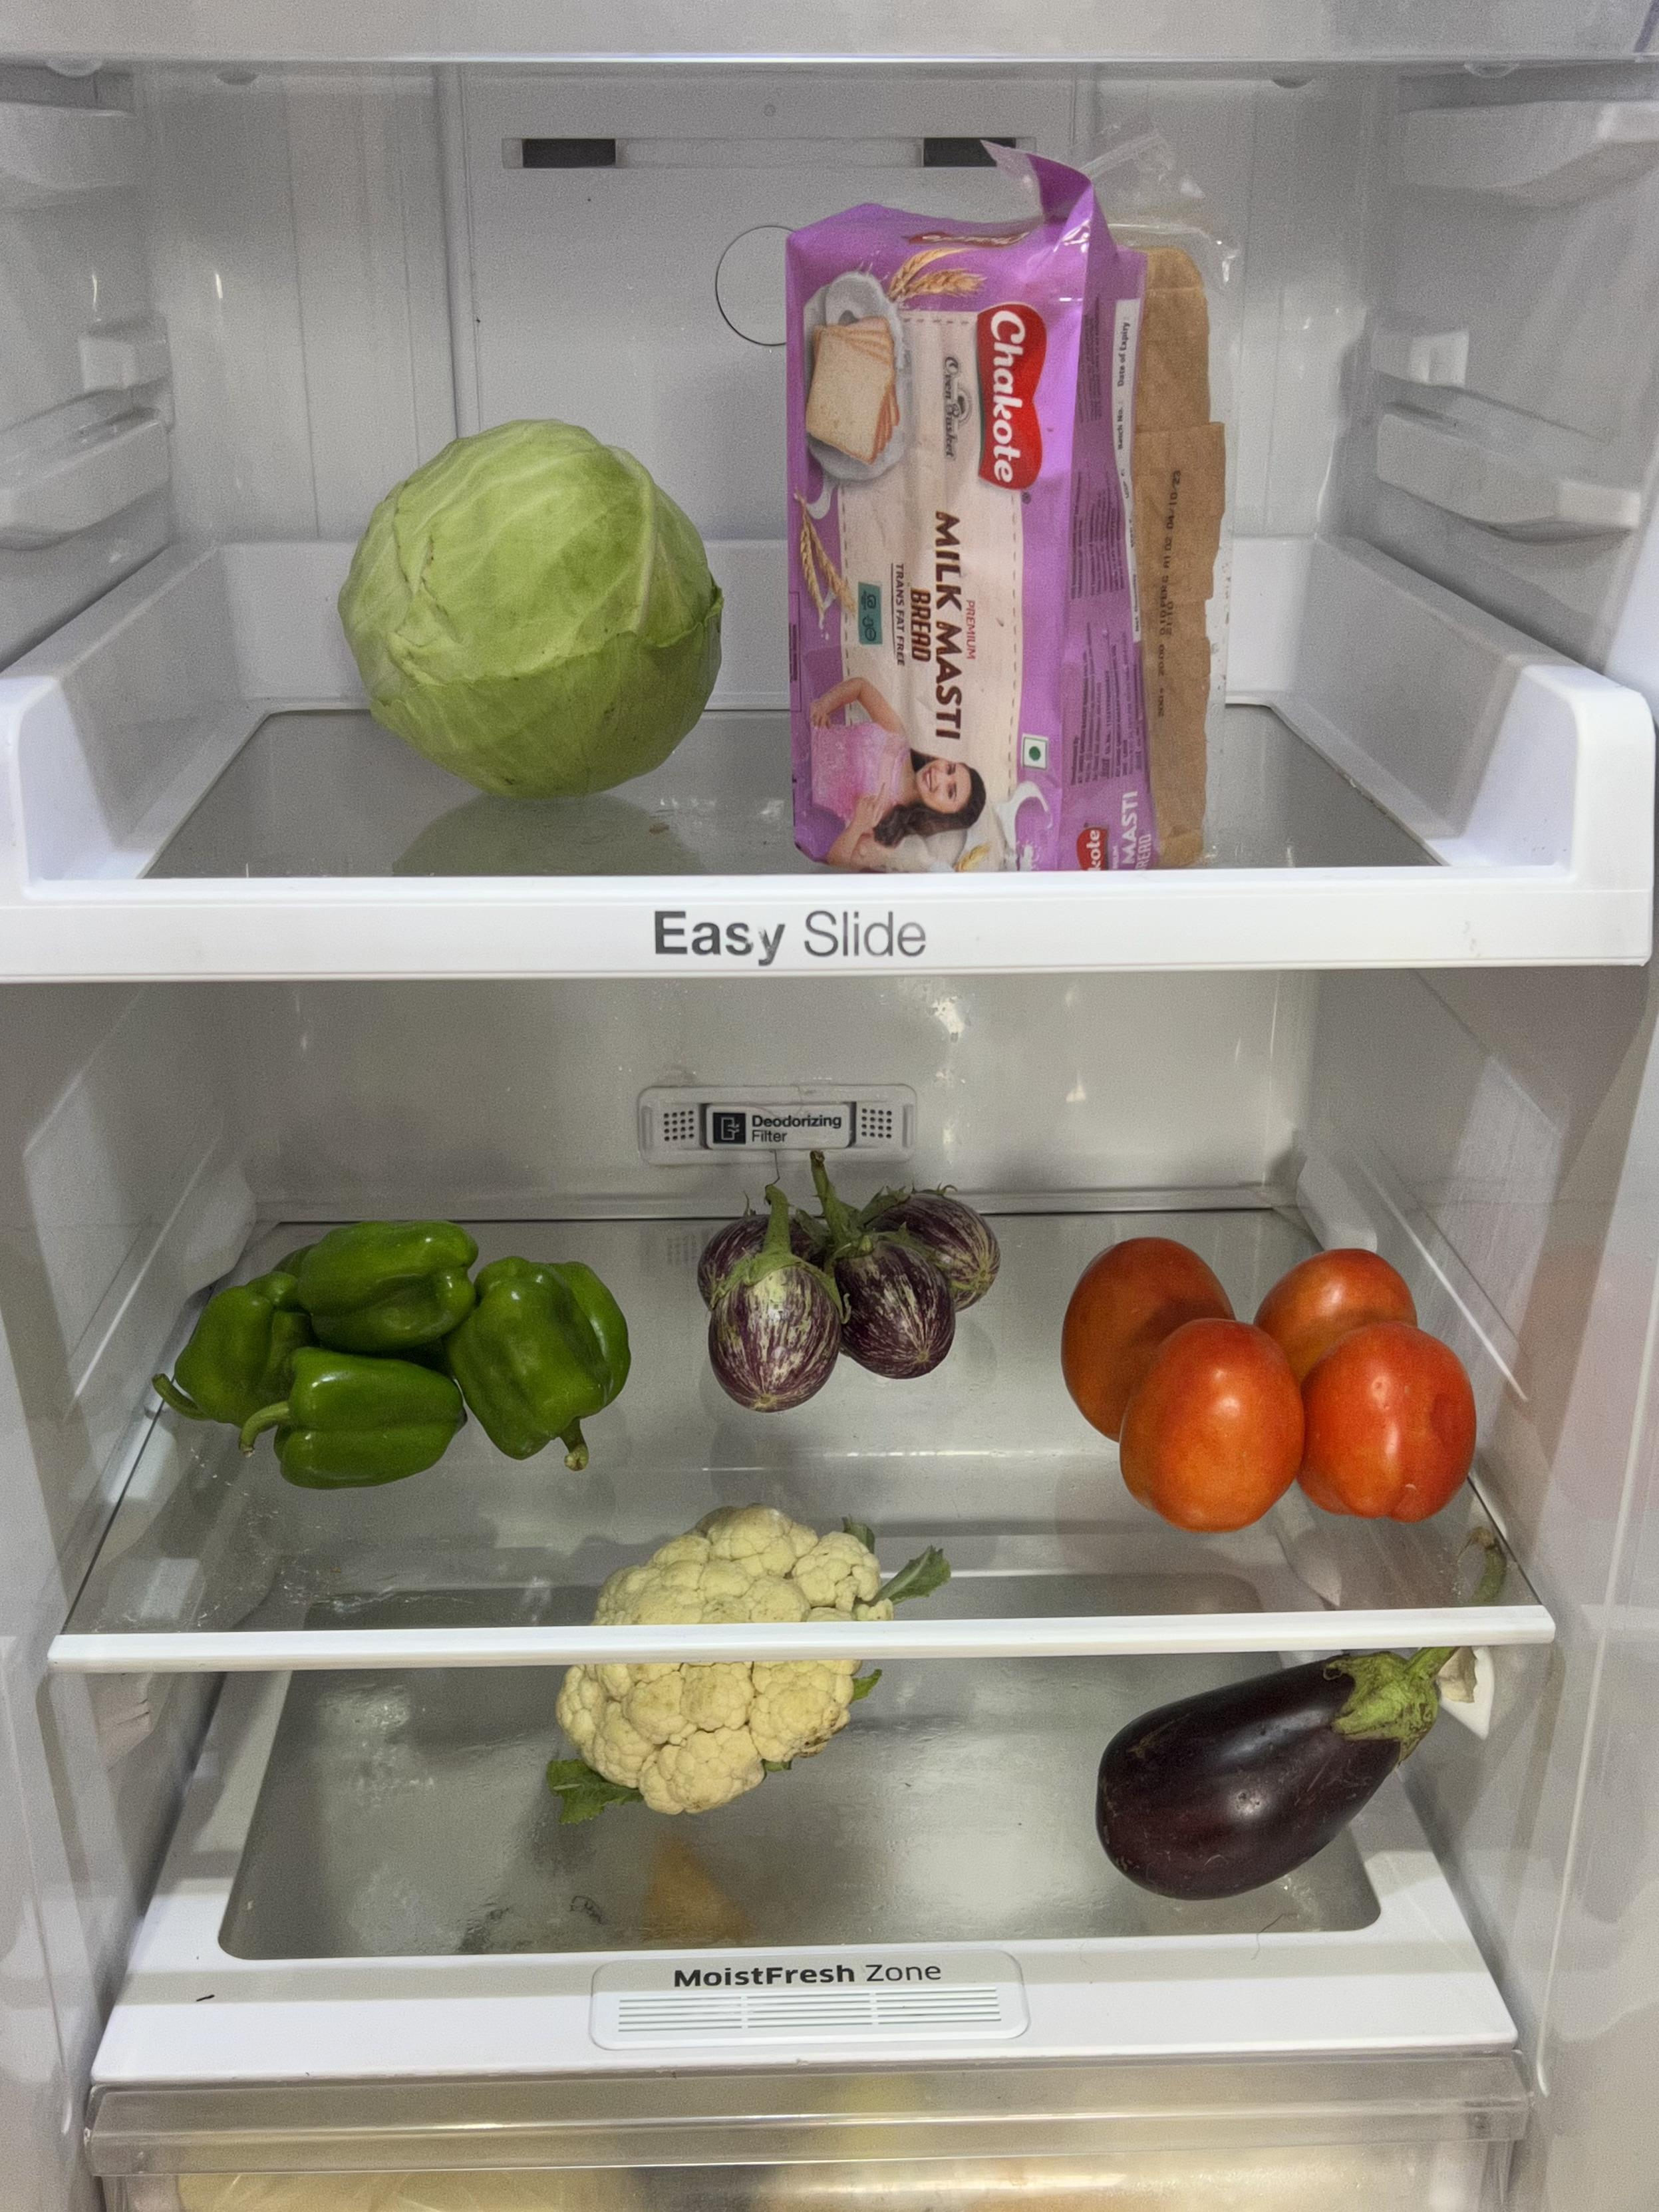bread: (760, 174, 1222, 852)
bringal: (1093, 1632, 1507, 1898), (701, 1173, 999, 1414)
cabbage: (343, 420, 734, 804)
capsicum: (167, 1192, 647, 1496)
cauliflower: (528, 1511, 911, 1801)
tomato: (1053, 1218, 1473, 1530)
